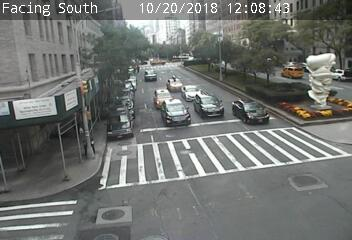carw: (231, 97, 271, 125), (195, 91, 225, 117), (162, 99, 191, 125), (167, 76, 183, 91), (144, 68, 159, 81)
